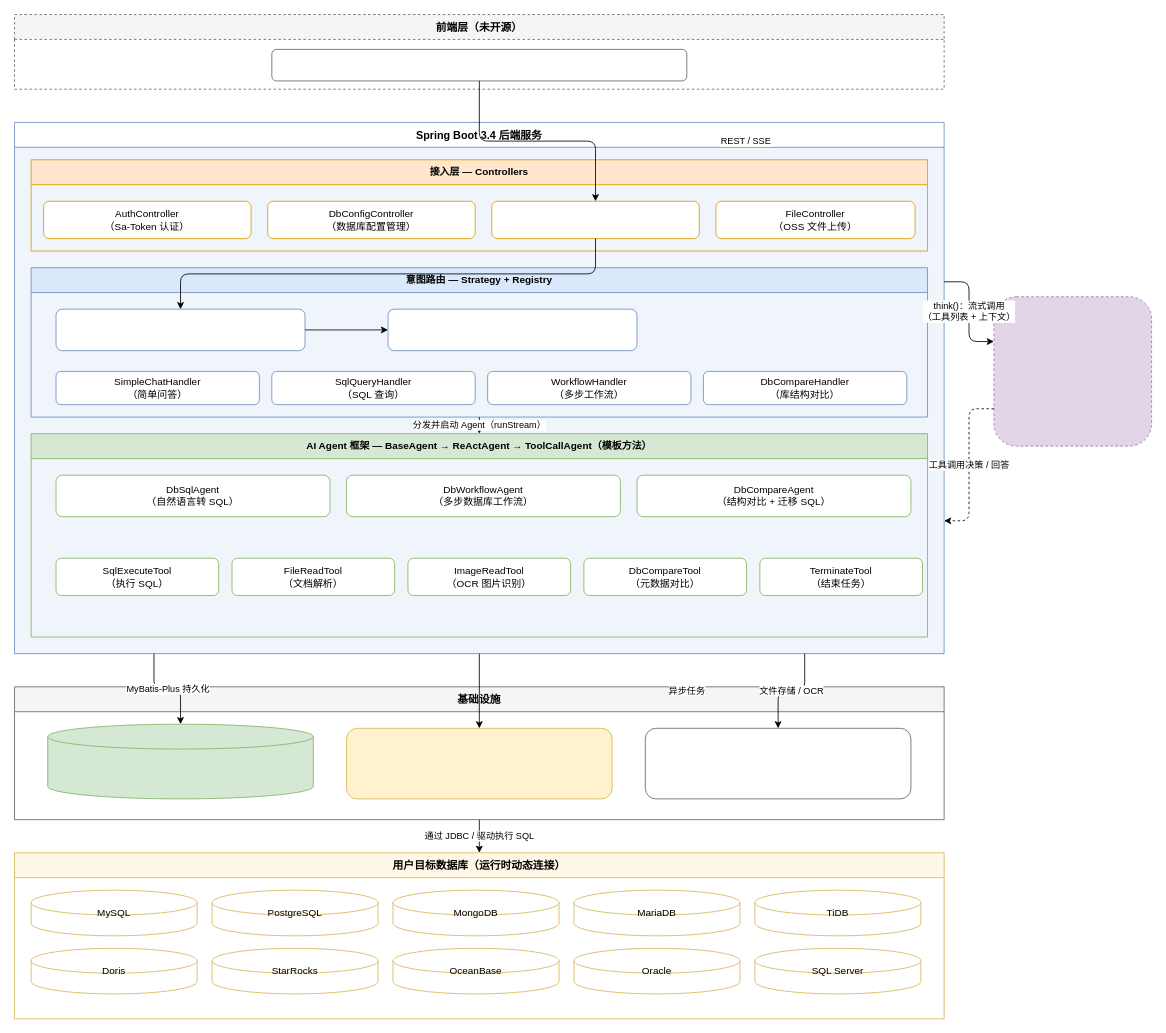
This 1166x1033 diagram has some shape labels left out. The shapes that lost their labels are listed below. From the top down, each one's centre as x and y in pixels, then its label:
At point 479,65: "Web 界面 · SSE 实时流式对话".
At point 595,219: "ChatController POST /chat · SSE 流式".
At point 180,329: "IntentClassifier （LLM 意图分类，结构化输出）".
At point 512,329: "IntentHandlerRegistry （自动发现 Handler Bean）".
At point 1072,371: "DeepSeek 大模型 （OpenAI 兼容 API） reasoning_content 工具调用".
At point 180,761: "PostgreSQL 16 系统库（schema: app）".
At point 479,763: "RabbitMQ 异步任务：连接校验 / 文档生成".
At point 777,763: "阿里云 OSS + OCR 文件存储 / 图片识别".
